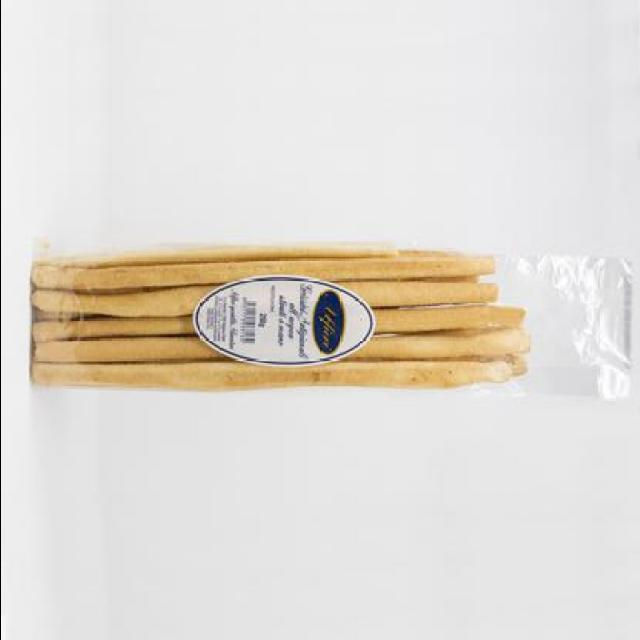Grissini: (32, 250, 532, 392)
